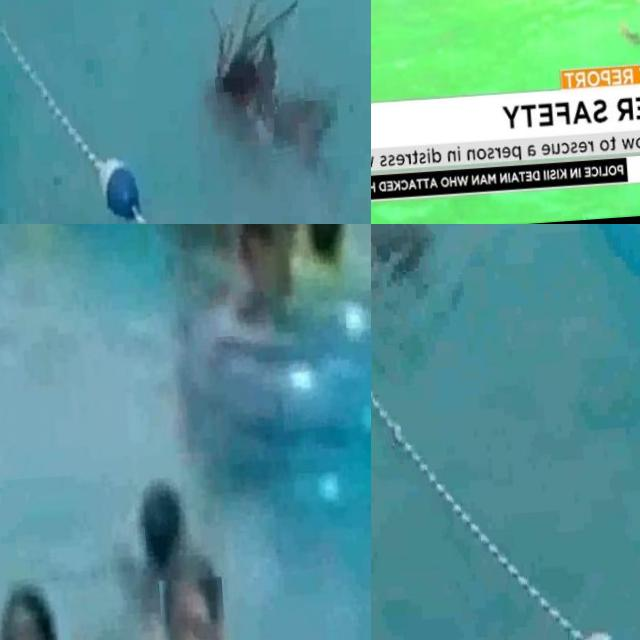drowning: (171, 0, 359, 197), (371, 224, 466, 345), (108, 463, 191, 580)
swimming: (197, 224, 312, 366), (157, 576, 231, 640), (0, 581, 76, 640), (302, 224, 363, 264)
